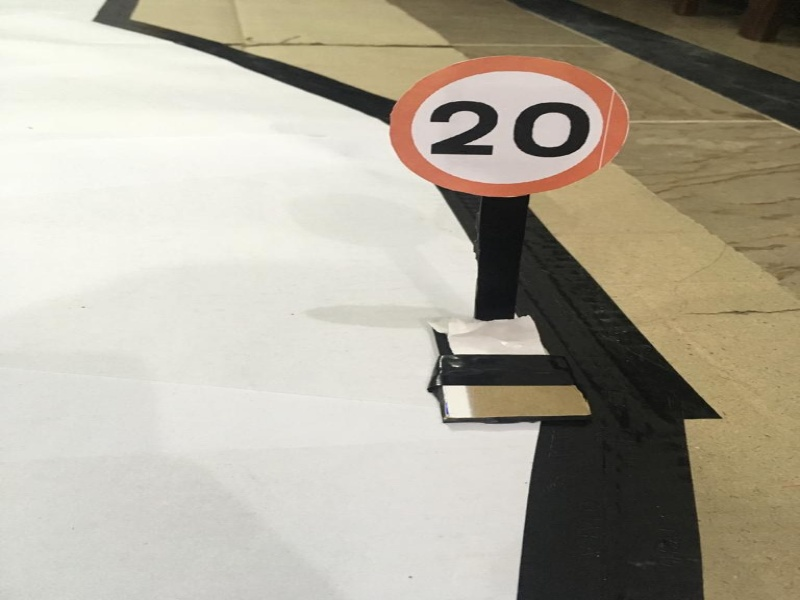Speed Limit 20: (383, 52, 635, 199)
